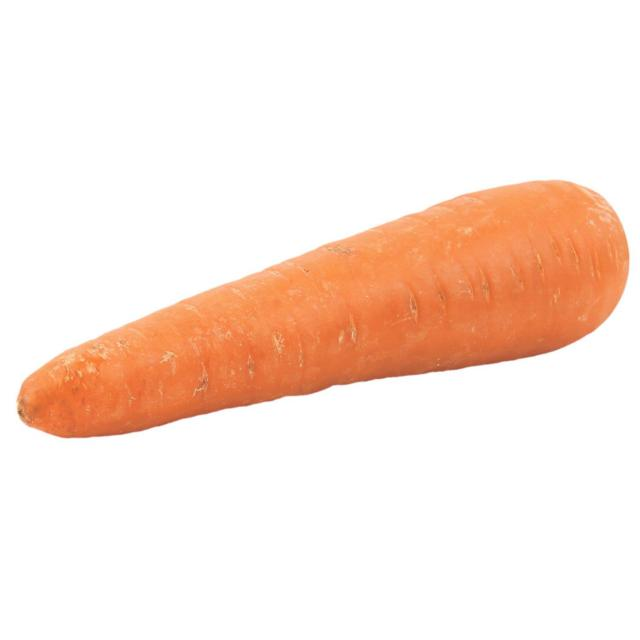carrot: (16, 180, 631, 441)
